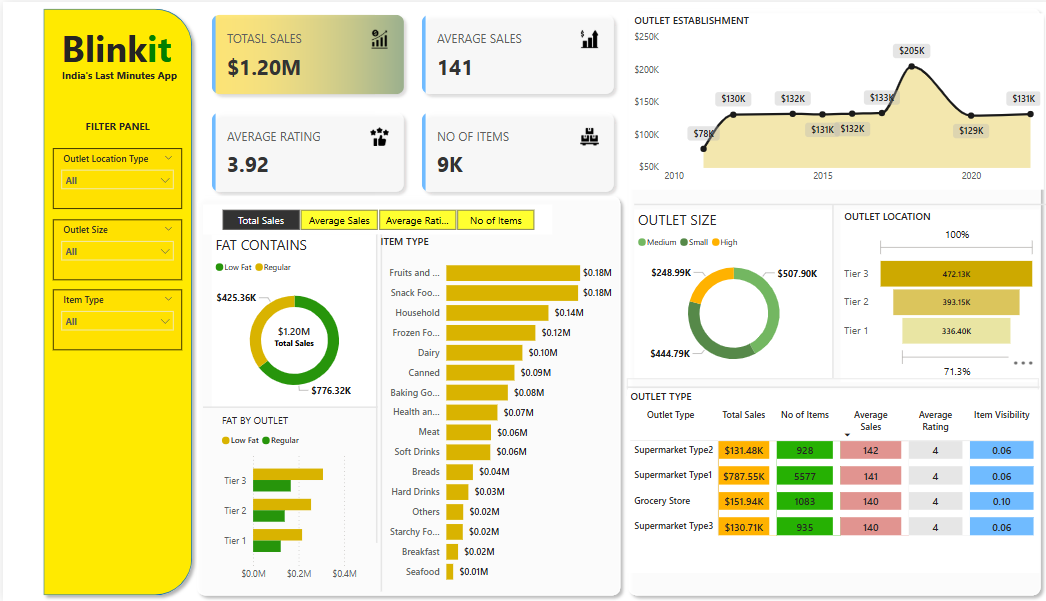

What the dashboard file says about the page in this screenshot:
{"tool":"powerbi","page":{"name":"Page 1","canvas":[1400,800],"ordinal":0},"visuals":[{"type":"shape","box":[45,0,216.1,800],"z":0},{"type":"textbox","box":[63.5,23.8,175.9,74.1],"z":1000},{"type":"textbox","box":[72.5,82.5,216.2,30],"z":2000},{"type":"cardVisual","fields":{"Data":["BlinkIT Grocery Data.Total Sales","BlinkIT Grocery Data.Average Sales","BlinkIT Grocery Data.Average Rating","BlinkIT Grocery Data.No of Items"]},"box":[261.4,0,570,270],"z":3000},{"type":"shape","box":[250,250,582,550.3],"z":4000},{"type":"slicer","fields":{"Values":["Metrics.Metrics"]},"box":[265.9,269.8,465.6,39.7],"z":5000},{"type":"donutChart","title":"FAT CONTAINS","fields":{"Y":["BlinkIT Grocery Data.Total Sales"],"Category":["BlinkIT Grocery Data.Item Fat Content"]},"box":[277.8,309.5,220.9,230.2],"z":6000},{"type":"cardVisual","fields":{"Data":["BlinkIT Grocery Data.Total Sales"]},"box":[320.1,414,136.2,60.8],"z":7000},{"type":"clusteredBarChart","title":"FAT BY OUTLET","fields":{"Y":["BlinkIT Grocery Data.Total Sales"],"Category":["BlinkIT Grocery Data.Outlet Location Type"],"Series":["BlinkIT Grocery Data.Item Fat Content"]},"box":[287,547.6,190.5,231.5],"z":8000},{"type":"shape","box":[492.1,309.5,13.2,411.4],"z":9000},{"type":"shape","box":[484.1,309.5,42.3,476.2],"z":10000},{"type":"barChart","title":"ITEM  TYPE","fields":{"Y":["BlinkIT Grocery Data.Total Sales"],"Category":["BlinkIT Grocery Data.Item Type"]},"box":[498.7,309.5,318.8,476.2],"z":11000},{"type":"shape","box":[265.9,527.8,232.8,23.8],"z":12000},{"type":"shape","box":[825.4,0,567.5,800.3],"z":13000},{"type":"lineChart","title":"OUTLET ESTABLISHMENT","fields":{"Category":["BlinkIT Grocery Data.Outlet Establishment Year"],"Y":["BlinkIT Grocery Data.Total Sales"]},"box":[837.3,14.6,551.6,235.5],"z":14000},{"type":"shape","box":[841.3,263.2,551.6,13.2],"z":15000},{"type":"donutChart","title":"OUTLET SIZE","fields":{"Y":["BlinkIT Grocery Data.Total Sales"],"Category":["BlinkIT Grocery Data.Outlet Size"]},"box":[841.3,276.5,265.9,224.9],"z":16000},{"type":"shape","box":[1100.5,269.8,13.2,231.5],"z":17000},{"type":"funnel","title":"OUTLET LOCATION","fields":{"Y":["Sum(BlinkIT Grocery Data.Sales)"],"Category":["BlinkIT Grocery Data.Outlet Location Type"]},"box":[1116.4,276.5,265.9,230.2],"z":18000},{"type":"shape","box":[832,501.3,550.3,23.8],"z":19000},{"type":"pivotTable","title":"OUTLET TYPE","fields":{"Rows":["BlinkIT Grocery Data.Outlet Type"],"Values":["BlinkIT Grocery Data.Total Sales","BlinkIT Grocery Data.No of Items","BlinkIT Grocery Data.Average Sales","BlinkIT Grocery Data.Average Rating","Avg(BlinkIT Grocery Data.Item Visibility)"]},"box":[832,515.9,550.3,244.7],"z":20000},{"type":"slicer","fields":{"Values":["BlinkIT Grocery Data.Outlet Location Type"]},"box":[67.5,195.8,172,80.7],"z":21000},{"type":"slicer","fields":{"Values":["BlinkIT Grocery Data.Outlet Size"]},"box":[67.5,289.7,172,80.7],"z":22000},{"type":"slicer","fields":{"Values":["BlinkIT Grocery Data.Item Type"]},"box":[67.5,383.6,172,80.7],"z":23000},{"type":"textbox","box":[92.6,152.1,119,31.7],"z":24000}]}

Visuals, with their boxes in screenshot pixels (x1, y1, x2, y2), scaled from the page's 1400x800 canvas onto the 1046x601 screenshot:
shape: (x1=34, y1=0, x2=195, y2=600)
textbox: (x1=47, y1=18, x2=179, y2=74)
textbox: (x1=54, y1=62, x2=216, y2=85)
cardVisual - BlinkIT Grocery Data.Total Sales x BlinkIT Grocery Data.Average Sales: (x1=195, y1=0, x2=621, y2=203)
shape: (x1=187, y1=188, x2=622, y2=600)
slicer - Metrics.Metrics: (x1=199, y1=203, x2=547, y2=233)
"FAT CONTAINS" donutChart: (x1=208, y1=233, x2=373, y2=405)
cardVisual - BlinkIT Grocery Data.Total Sales: (x1=239, y1=311, x2=341, y2=357)
"FAT BY OUTLET" clusteredBarChart: (x1=214, y1=411, x2=357, y2=585)
shape: (x1=368, y1=233, x2=378, y2=542)
shape: (x1=362, y1=233, x2=393, y2=590)
"ITEM  TYPE" barChart: (x1=373, y1=233, x2=611, y2=590)
shape: (x1=199, y1=397, x2=373, y2=414)
shape: (x1=617, y1=0, x2=1041, y2=600)
"OUTLET ESTABLISHMENT" lineChart: (x1=626, y1=11, x2=1038, y2=188)
shape: (x1=629, y1=198, x2=1041, y2=208)
"OUTLET SIZE" donutChart: (x1=629, y1=208, x2=827, y2=377)
shape: (x1=822, y1=203, x2=832, y2=377)
"OUTLET LOCATION" funnel: (x1=834, y1=208, x2=1033, y2=381)
shape: (x1=622, y1=377, x2=1033, y2=394)
"OUTLET TYPE" pivotTable: (x1=622, y1=388, x2=1033, y2=571)
slicer - BlinkIT Grocery Data.Outlet Location Type: (x1=50, y1=147, x2=179, y2=208)
slicer - BlinkIT Grocery Data.Outlet Size: (x1=50, y1=218, x2=179, y2=278)
slicer - BlinkIT Grocery Data.Item Type: (x1=50, y1=288, x2=179, y2=349)
textbox: (x1=69, y1=114, x2=158, y2=138)
